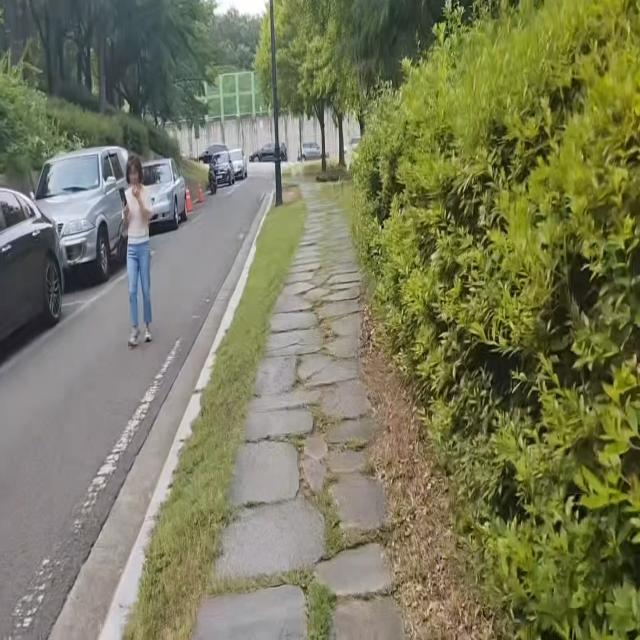obstacle: (30, 142, 193, 317), (0, 178, 73, 372), (122, 147, 160, 353), (266, 0, 288, 210), (206, 141, 252, 206)
road: (0, 172, 278, 640)
sidewalk: (101, 172, 423, 640)
